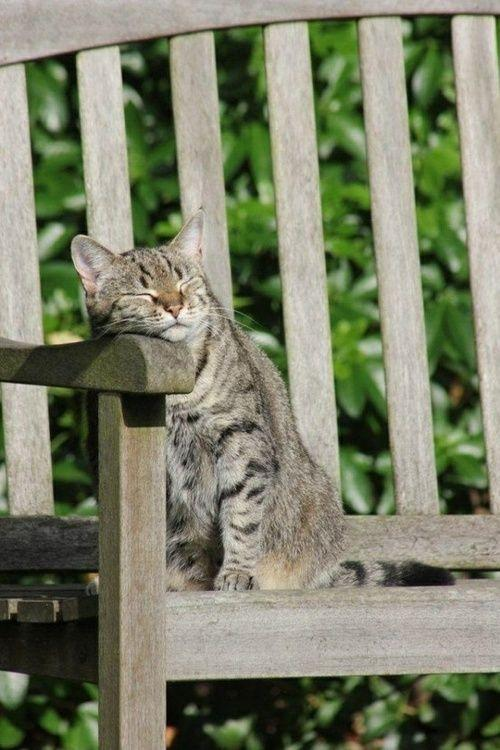kedo: (70, 214, 452, 591)
